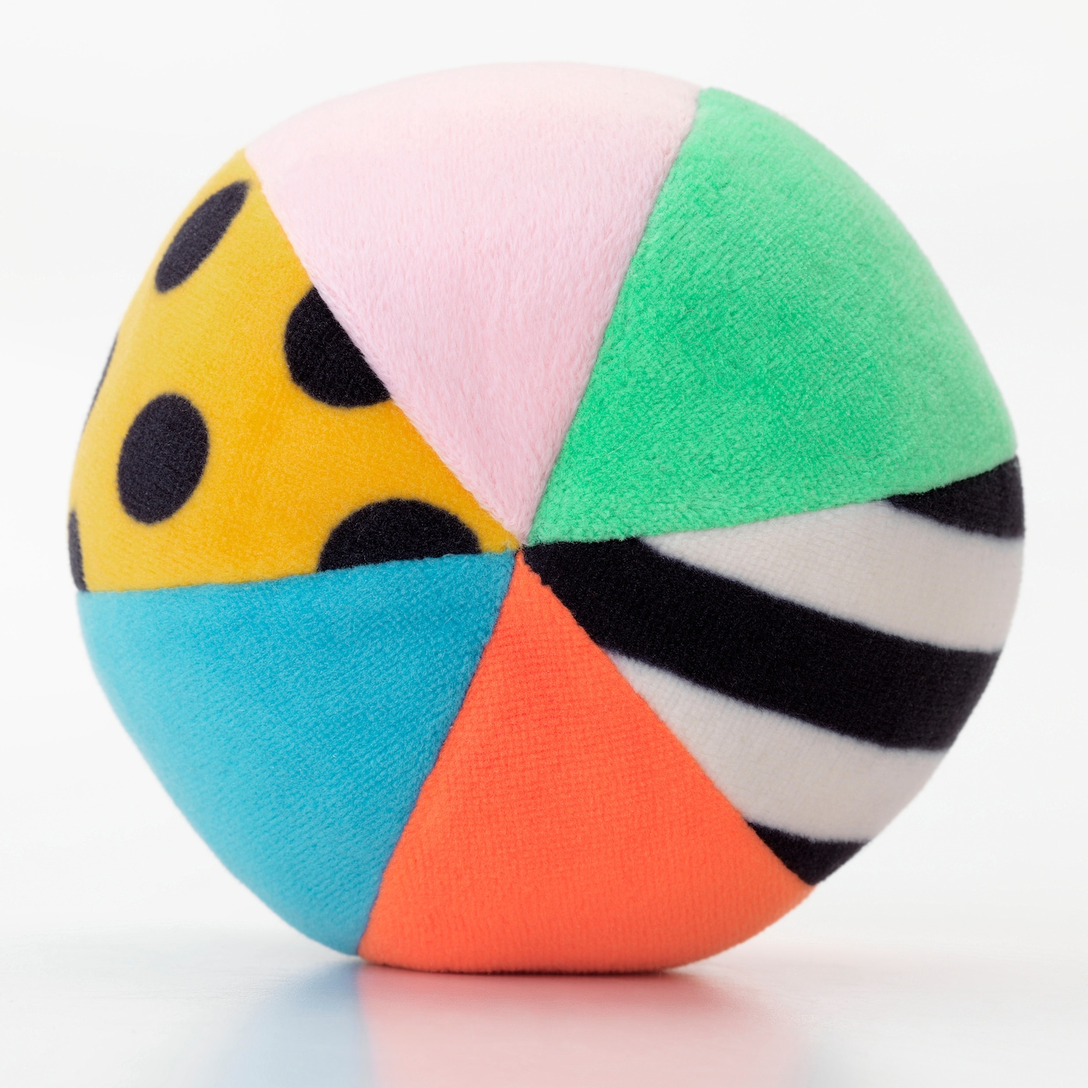sphere: (69, 65, 1025, 972)
